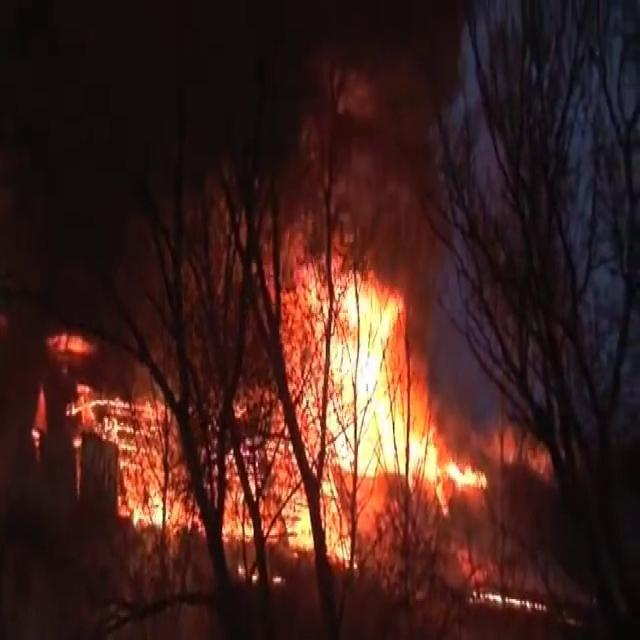Fire: (296, 255, 468, 550), (86, 372, 190, 546)
